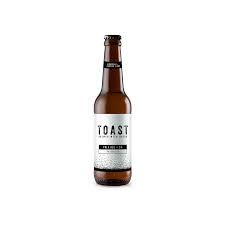Glass bottle: (80, 23, 143, 193)
